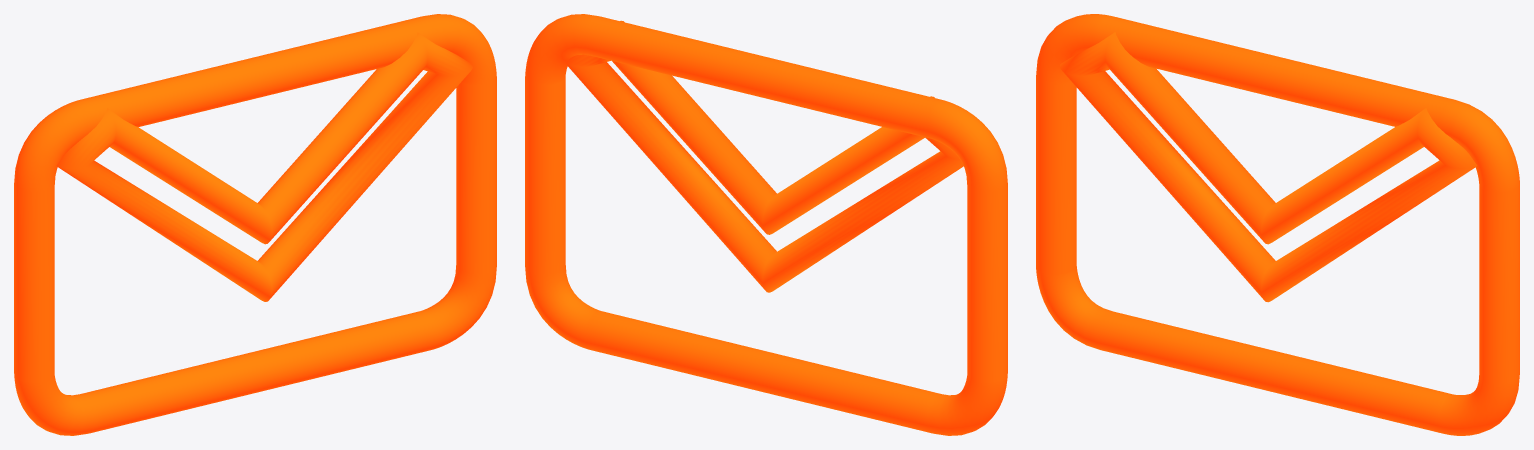
The model's file is email.glb.
The picture shows the model from 3 angles, left to right: view 1: azimuth 30°, elevation 25°; view 2: azimuth 150°, elevation 25°; view 3: azimuth 330°, elevation 25°; orthographic projection.
Parts seen in each view (by area): view 1: Curve, Curve.001; view 2: Curve, Curve.001; view 3: Curve, Curve.001.
Part boxes in pixels (x1,y1,x2,y2): Curve: (14, 14, 496, 435); Curve.001: (56, 32, 472, 301); Curve: (525, 14, 1007, 435); Curve.001: (565, 20, 963, 292); Curve: (1036, 14, 1519, 435); Curve.001: (1060, 32, 1477, 302).
Size of the model in its own units: 1.55 by 1.03 by 0.1507.
